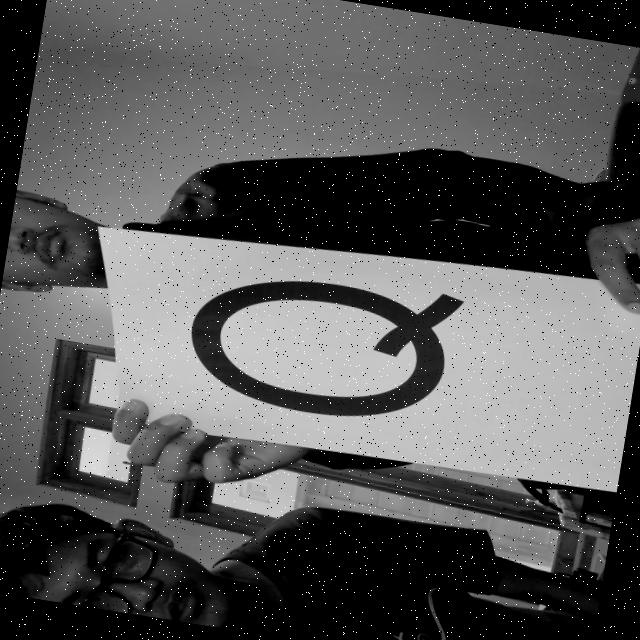q: (165, 232, 509, 448)
